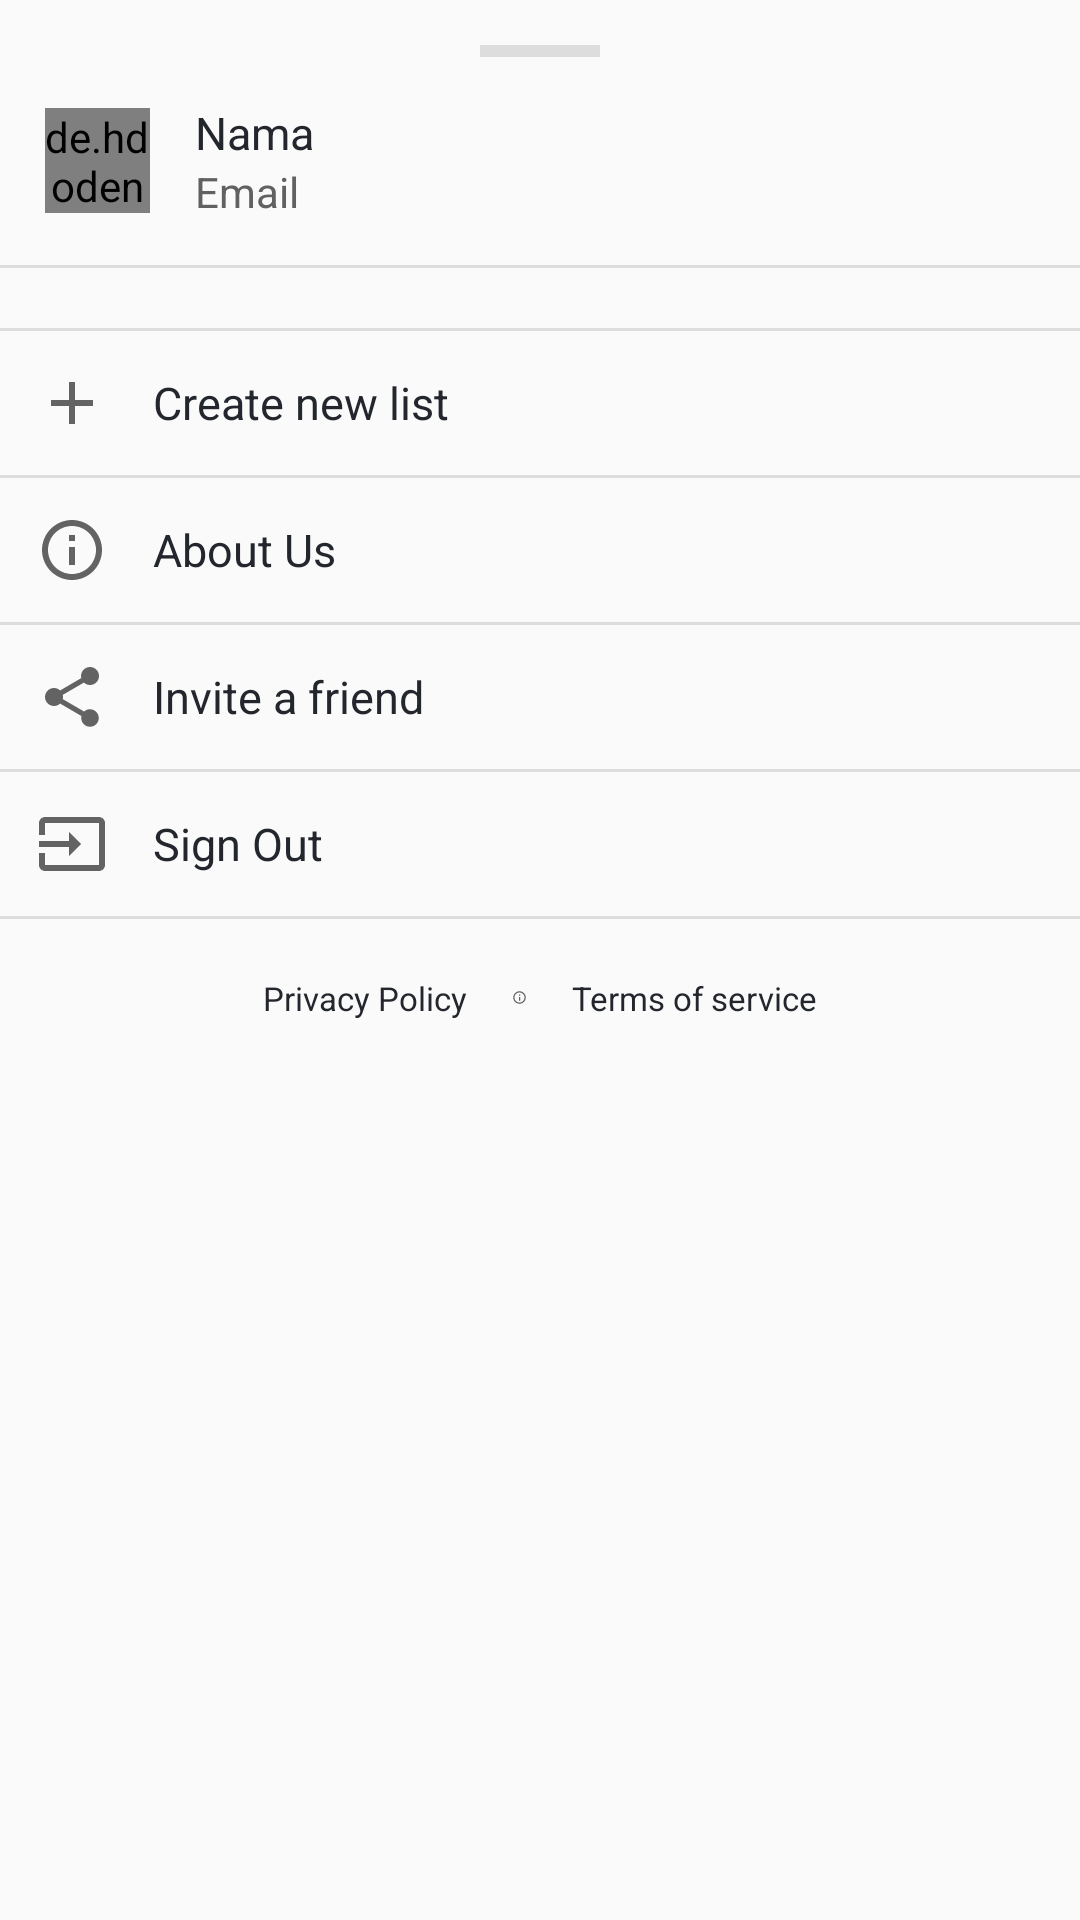

Locate icon controls on the screen. Image size 1080 x 1920, boxes as (x1, y1, x2, y2).
add: (51, 382, 93, 424)
input: (39, 817, 105, 871)
share: (45, 667, 99, 727)
